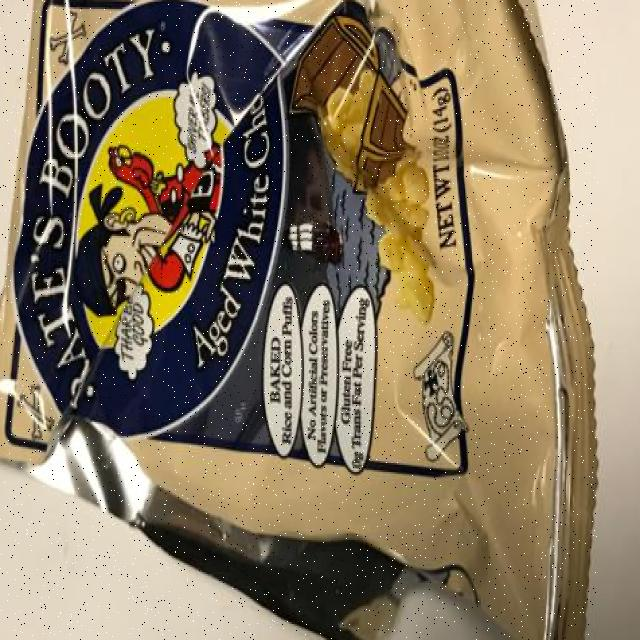wrapper: (0, 0, 598, 640)
